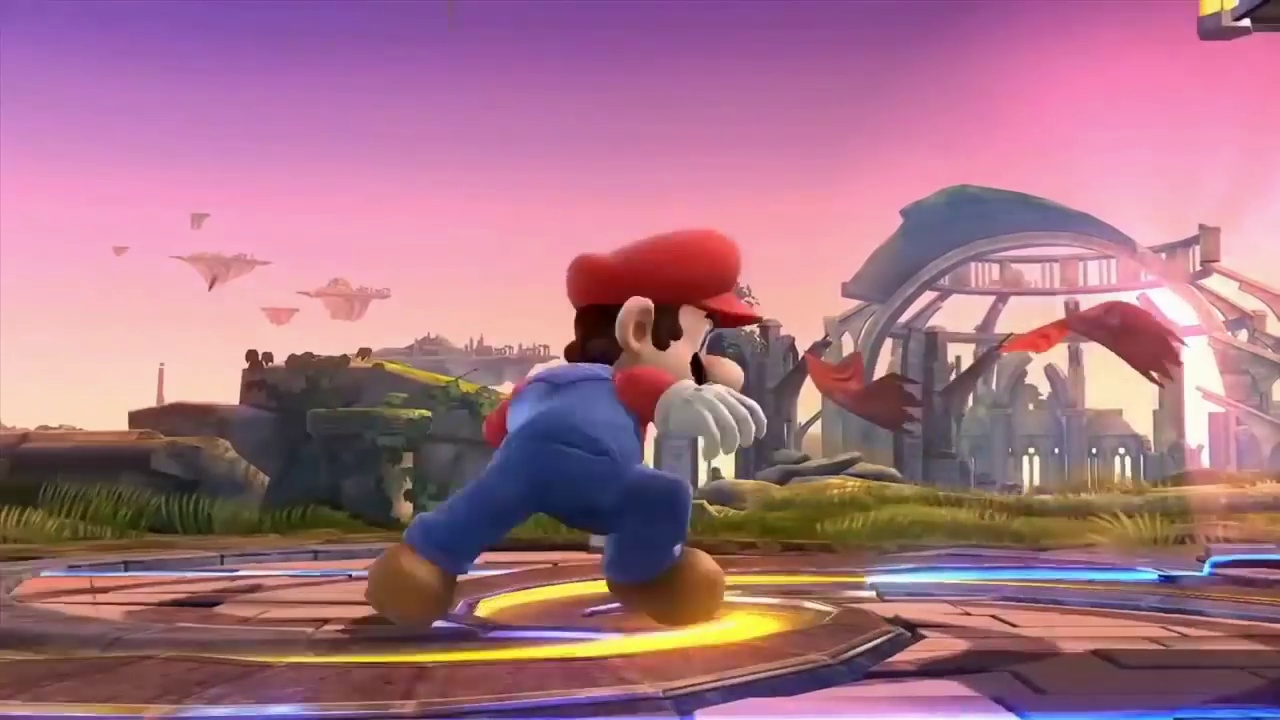Mario: (369, 230, 768, 640)
